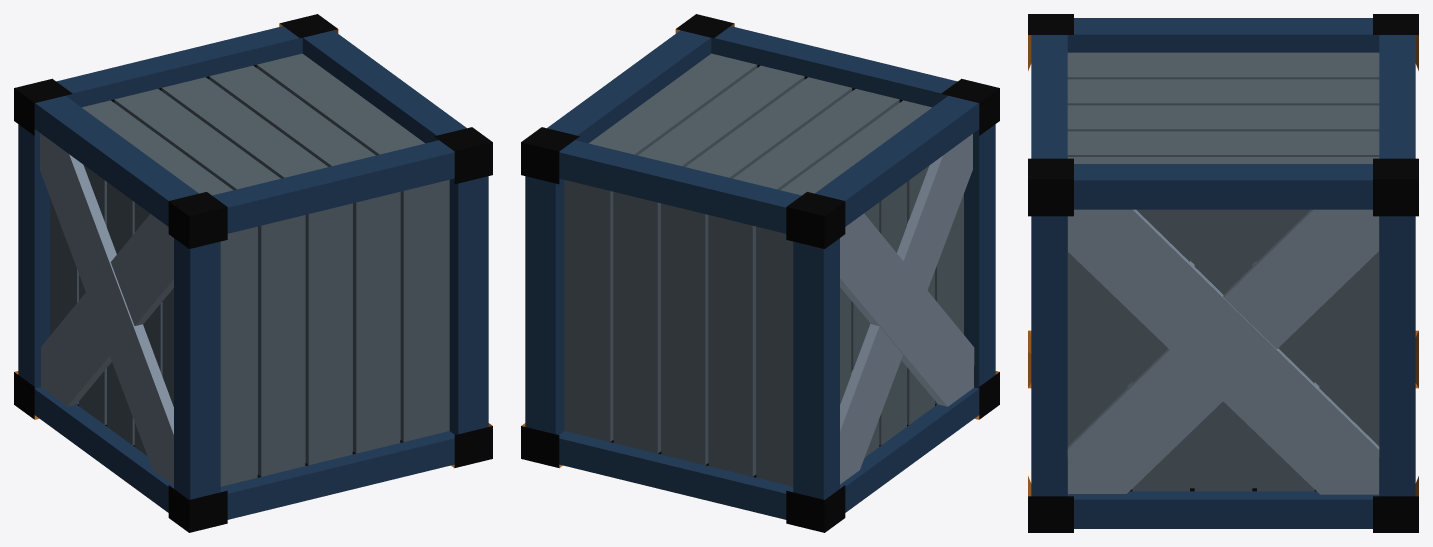
Rendered from CAIXAMETALblend.fbx.
3 views of the same model, side by side, from view 1: azimuth 30°, elevation 25°; view 2: azimuth 150°, elevation 25°; view 3: azimuth 270°, elevation 25° (orthographic). The views are drawn at different scales.
Visible parts, largest first — view 1: Cube.004; view 2: Cube.004; view 3: Cube.004.
Part boxes in pixels (x1=…): Cube.004: x1=14, y1=14, x2=492, y2=532; Cube.004: x1=521, y1=14, x2=999, y2=532; Cube.004: x1=1028, y1=14, x2=1418, y2=532.
Bounding box in the file's own units: 204 × 203 × 203.
